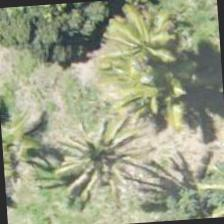Kelapa_Sawit: (52, 109, 148, 205), (94, 0, 191, 90)
